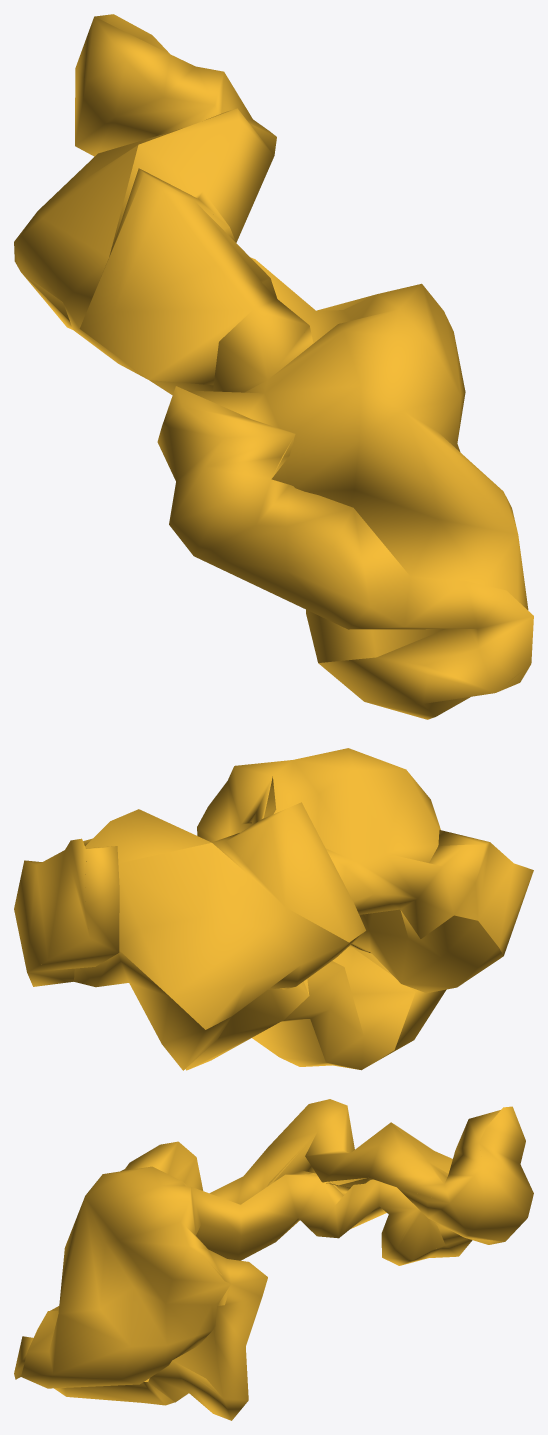
The model's file is nervoso-inferior-frontal-sulcus-l.glb.
The picture shows the model from 3 angles, top to bottom: view 1: azimuth 30°, elevation 25°; view 2: azimuth 150°, elevation 25°; view 3: azimuth 270°, elevation 25°; orthographic projection. The views are drawn at different scales.
Parts seen in each view (by area): view 1: Inferior frontal sulcus.l; view 2: Inferior frontal sulcus.l; view 3: Inferior frontal sulcus.l.
Part boxes in pixels (left/top/right/bottom): Inferior frontal sulcus.l: left=14, top=14, right=533, bottom=719; Inferior frontal sulcus.l: left=14, top=748, right=533, bottom=1070; Inferior frontal sulcus.l: left=14, top=1099, right=533, bottom=1420.
Bounding box in the file's own units: 0.0237 × 0.0322 × 0.0509.
